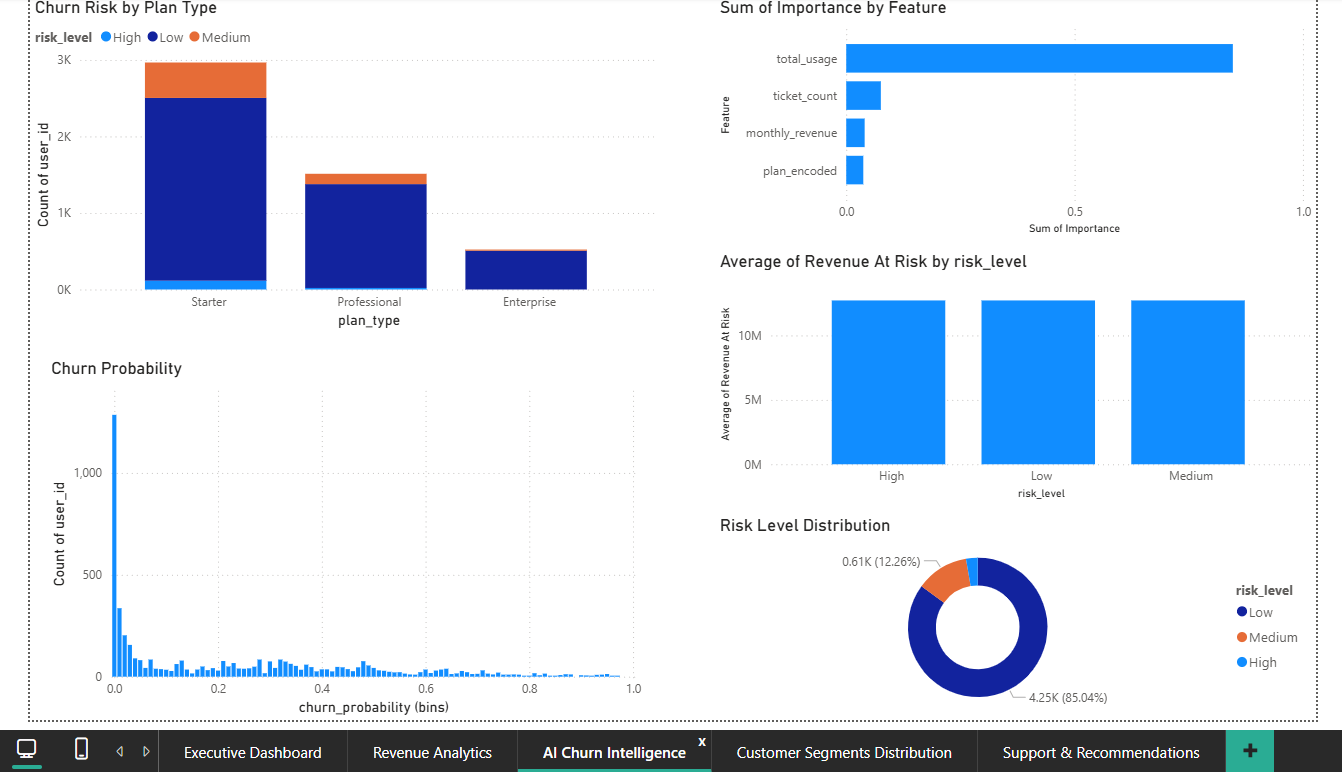

What the dashboard file says about the page in this screenshot:
{"tool":"powerbi","page":{"name":"AI Churn Intelligence","canvas":[1280,720],"ordinal":2},"visuals":[{"type":"donutChart","title":"Risk Level Distribution","fields":{"Category":["fact_churn_predictions.risk_level"],"Y":["CountNonNull(fact_churn_predictions.user_id)"]},"box":[682,514.6,598.3,205.8],"z":0},{"type":"clusteredColumnChart","title":"Churn Probability","fields":{"Category":["fact_churn_predictions.churn_probability (bins)"],"Y":["CountNonNull(Dim_users.user_id)"]},"box":[16.5,359.5,598.3,360.9],"z":1000},{"type":"barChart","fields":{"Category":["fact_feature_importance.Feature"],"Y":["Sum(fact_feature_importance.Importance)"]},"box":[682,0,598.3,241.5],"z":2000},{"type":"columnChart","title":"Churn Risk by Plan Type","fields":{"Category":["fact_churn_predictions.plan_type"],"Series":["fact_churn_predictions.risk_level"],"Y":["CountNonNull(Dim_users.user_id)"]},"box":[0,0,629.8,334.8],"z":3000},{"type":"clusteredColumnChart","fields":{"Category":["fact_churn_predictions.risk_level"],"Y":["Avg(fact_churn_predictions.Revenue At Risk)"]},"box":[682,252.5,598.3,252.5],"z":4000}]}

Visuals, with their boxes on the page's 1280x720 design canvas (x1, y1, x2, y2). These are canvas units, not pixel positions in the 1342x772 screenshot, which may show the page scaled, cropped or inside an application window:
"Risk Level Distribution" donutChart: BBox(682, 515, 1280, 720)
"Churn Probability" clusteredColumnChart: BBox(16, 360, 615, 720)
barChart - fact_feature_importance.Feature x Sum(fact_feature_importance.Importance): BBox(682, 0, 1280, 242)
"Churn Risk by Plan Type" columnChart: BBox(0, 0, 630, 335)
clusteredColumnChart - fact_churn_predictions.risk_level x Avg(fact_churn_predictions.Revenue At Risk): BBox(682, 252, 1280, 505)
